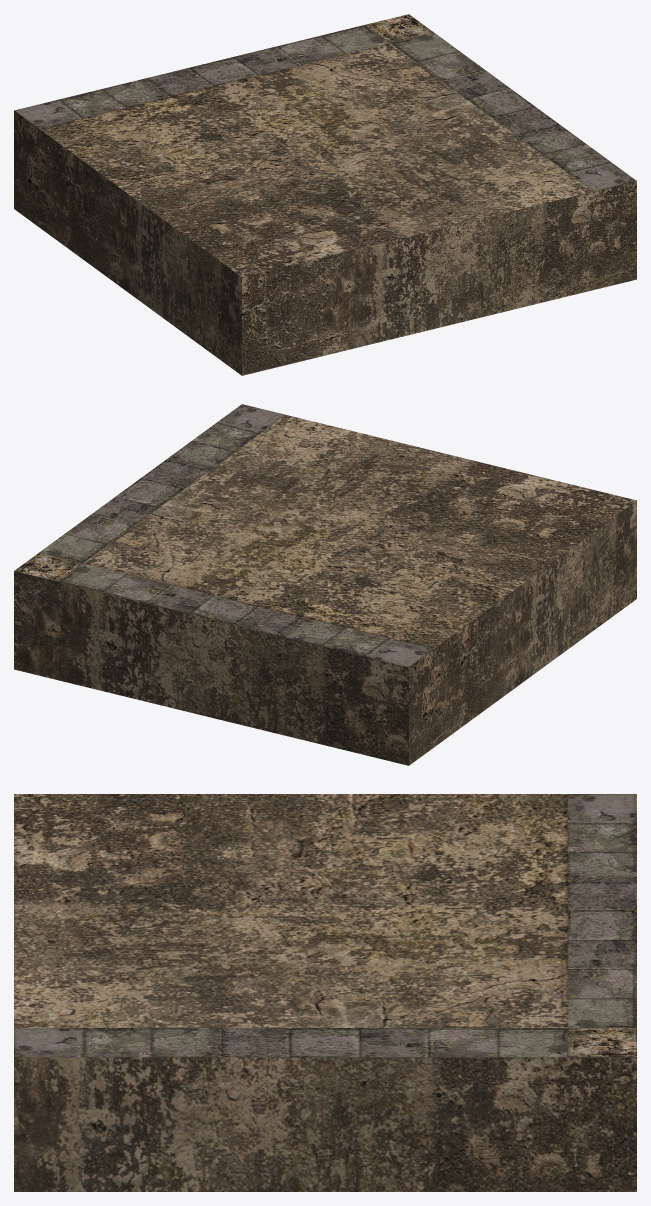
Rendered from materials_5_floor_rectangle_8.fbx.
The picture shows the model from 3 angles, top to bottom: view 1: azimuth 30°, elevation 25°; view 2: azimuth 150°, elevation 25°; view 3: azimuth 270°, elevation 25°; orthographic projection. The views are drawn at different scales.
Visible parts, largest first — view 1: materials_5_floor_rectangle_8; view 2: materials_5_floor_rectangle_8; view 3: materials_5_floor_rectangle_8.
Boxes of the visible parts, x1,y1,x2,y2 form: materials_5_floor_rectangle_8: (14,14,636,375); materials_5_floor_rectangle_8: (14,404,636,765); materials_5_floor_rectangle_8: (14,794,636,1191).
Size of the model in its own units: 180 by 42.89 by 180.
